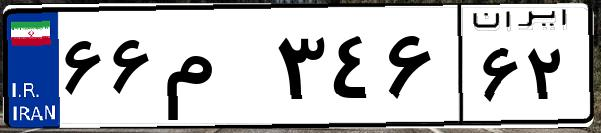2: (525, 38, 570, 115)
3: (270, 28, 330, 110)
4: (330, 28, 385, 110)
6: (385, 28, 445, 110), (57, 26, 110, 100), (475, 38, 525, 113), (110, 28, 158, 98)
م: (158, 20, 270, 120)
